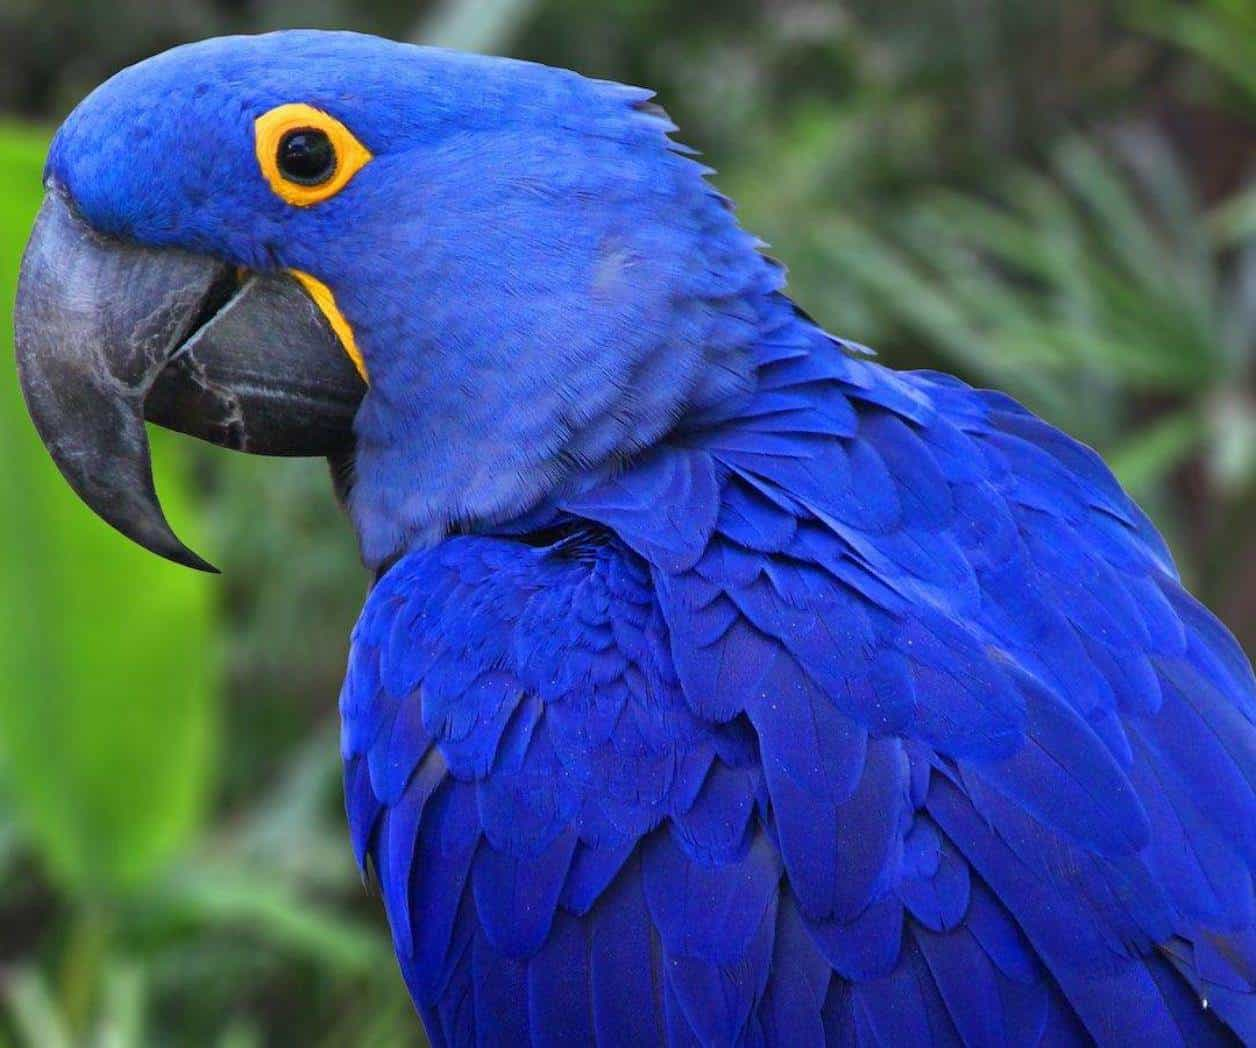guacamaya: (10, 6, 1208, 1030)
